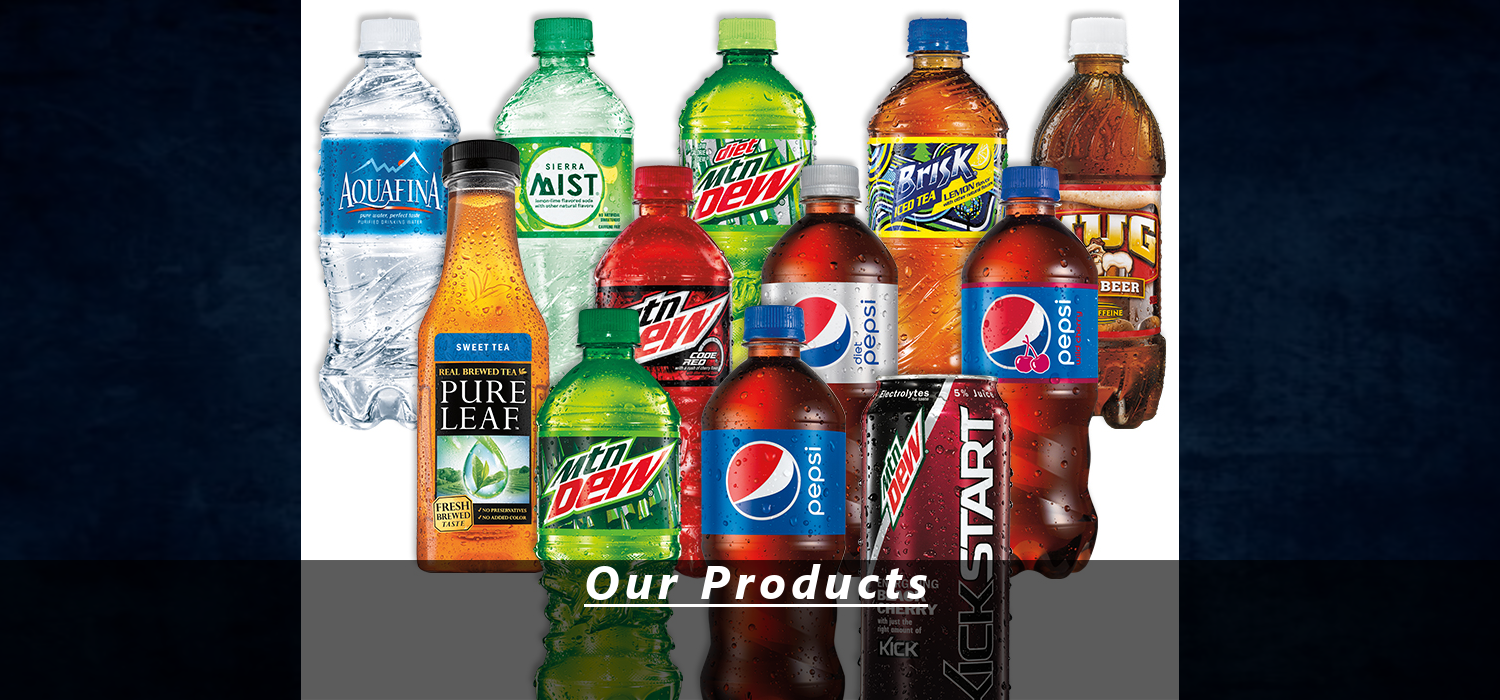pepsi: (722, 440, 798, 523), (982, 297, 1052, 372), (788, 290, 854, 368)
